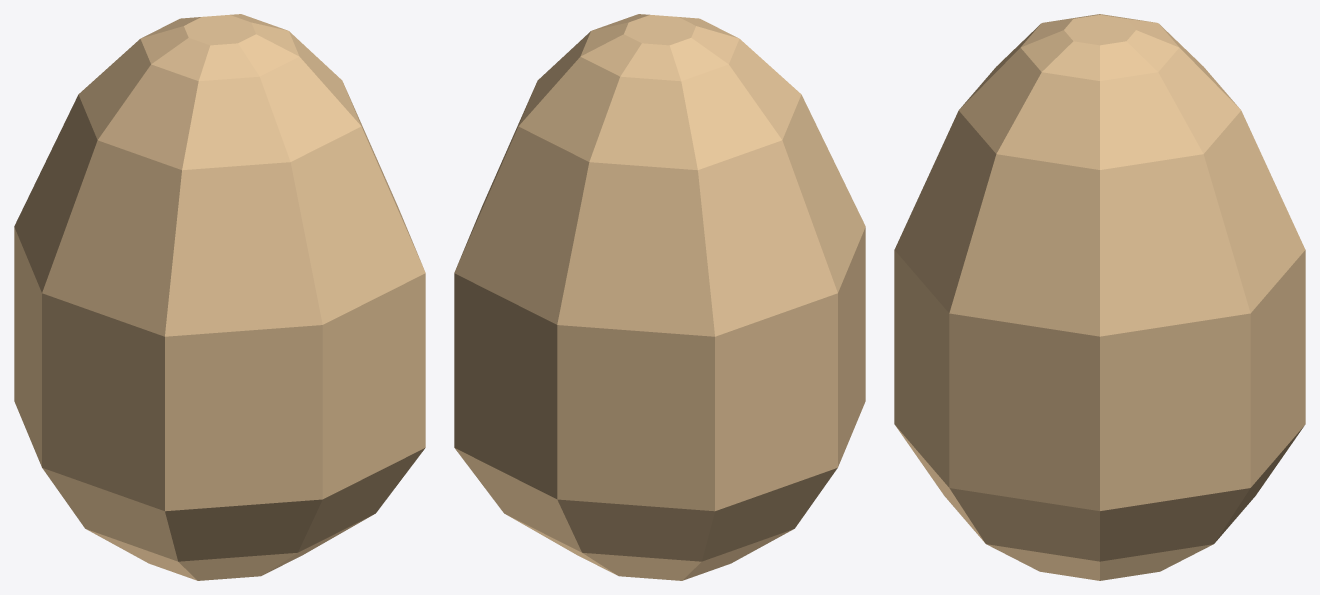
File: egg.glb
The picture shows the model from 3 angles, left to right: view 1: azimuth 30°, elevation 25°; view 2: azimuth 150°, elevation 25°; view 3: azimuth 270°, elevation 25°; orthographic projection.
Visible parts, largest first — view 1: Cube.001_Cube.000; view 2: Cube.001_Cube.000; view 3: Cube.001_Cube.000.
Boxes of the visible parts, x1,y1,x2,y2 form: Cube.001_Cube.000: (14, 14, 425, 580); Cube.001_Cube.000: (454, 14, 865, 580); Cube.001_Cube.000: (894, 14, 1305, 580).
Bounding box in the file's own units: 0.4732 × 0.6557 × 0.4732.
1 material, 1 textured.
